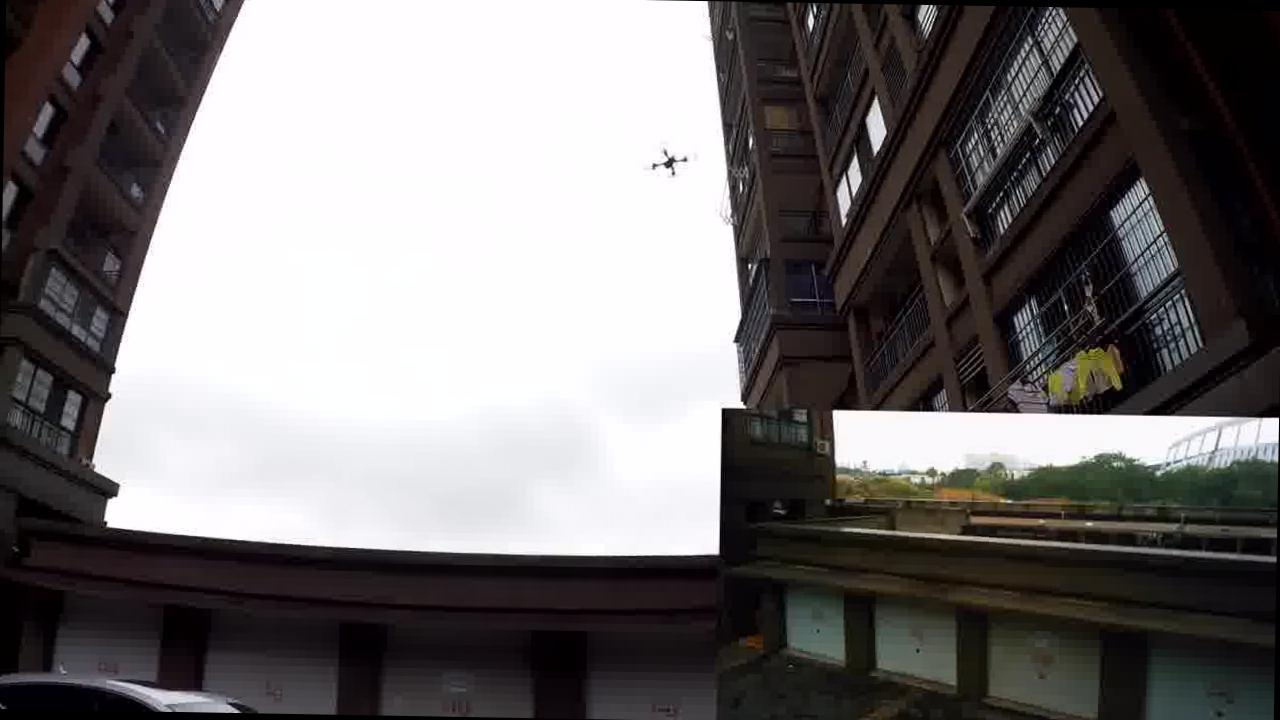drone: (648, 142, 692, 181)
